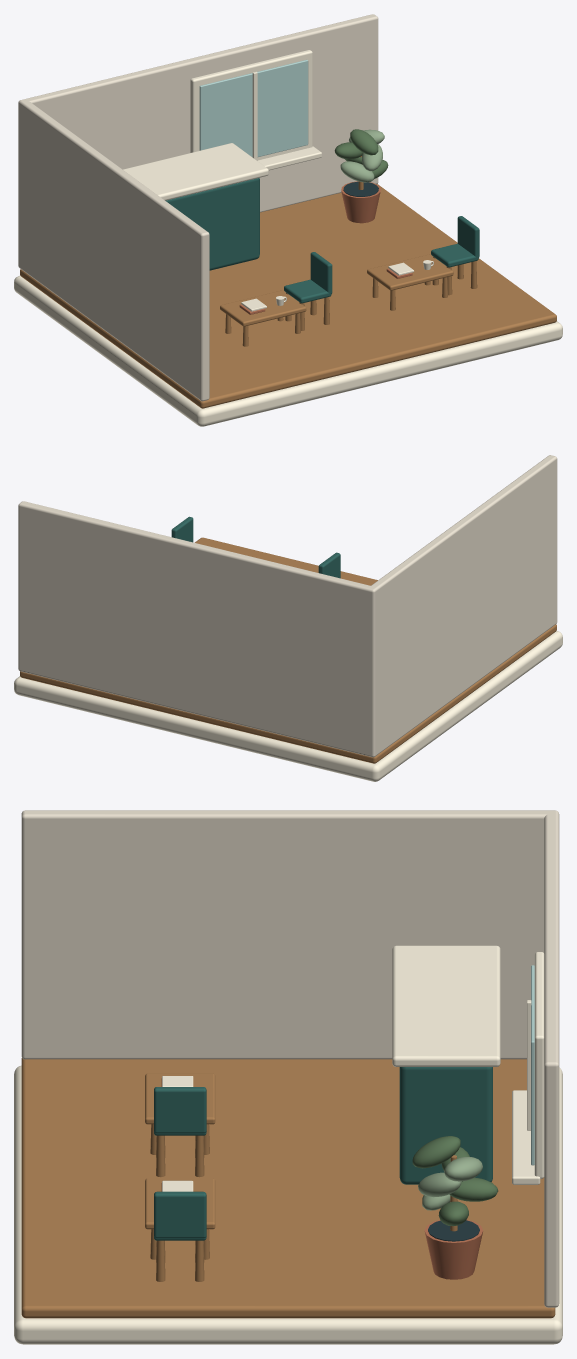
Rendered from destination-cafe.glb.
3 views of the same model, one above another, from view 1: azimuth 30°, elevation 25°; view 2: azimuth 150°, elevation 25°; view 3: azimuth 270°, elevation 25° (orthographic). The views are drawn at different scales.
Visible parts, largest first — view 1: floor, side-wall, back-wall, foundation, window-glass, counter, countertop, top (×2), window-frame, seat (×2), back (×2), ceramic-pot (+3 smaller); view 2: back-wall, side-wall, foundation, floor, back (×2); view 3: side-wall, floor, foundation, countertop, counter, back-wall, back (×2), leaf (×4), top (×2), window-frame, ceramic-pot, window-sill (+2 smaller).
Part boxes in pixels (x1=…): floor: x1=20, y1=184, x2=556, y2=408; side-wall: x1=20, y1=100, x2=209, y2=401; back-wall: x1=18, y1=14, x2=378, y2=269; foundation: x1=14, y1=275, x2=562, y2=426; window-glass: x1=199, y1=59, x2=308, y2=157; counter: x1=165, y1=178, x2=259, y2=270; countertop: x1=123, y1=143, x2=268, y2=200; top (×2): x1=220, y1=254, x2=453, y2=326; window-frame: x1=190, y1=50, x2=312, y2=160; seat (×2): x1=284, y1=243, x2=478, y2=303; back (×2): x1=310, y1=216, x2=479, y2=293; ceramic-pot: x1=341, y1=181, x2=380, y2=223; back-wall: x1=18, y1=501, x2=377, y2=757; side-wall: x1=371, y1=455, x2=557, y2=754; foundation: x1=14, y1=631, x2=562, y2=781; floor: x1=20, y1=537, x2=556, y2=763; back (×2): x1=171, y1=516, x2=340, y2=578; side-wall: x1=21, y1=810, x2=551, y2=1059; floor: x1=21, y1=1058, x2=555, y2=1318; foundation: x1=14, y1=1065, x2=562, y2=1344; countertop: x1=392, y1=945, x2=500, y2=1066; counter: x1=399, y1=1067, x2=492, y2=1184; back-wall: x1=544, y1=810, x2=559, y2=1307; back (×2): x1=154, y1=1087, x2=206, y2=1238; leaf (×4): x1=412, y1=1136, x2=498, y2=1201; top (×2): x1=145, y1=1073, x2=215, y2=1229; window-frame: x1=534, y1=952, x2=544, y2=1178; ceramic-pot: x1=424, y1=1219, x2=483, y2=1279; window-sill: x1=512, y1=1090, x2=540, y2=1184.
Bounding box in the file's own units: 4.1 × 2.06 × 3.65.
